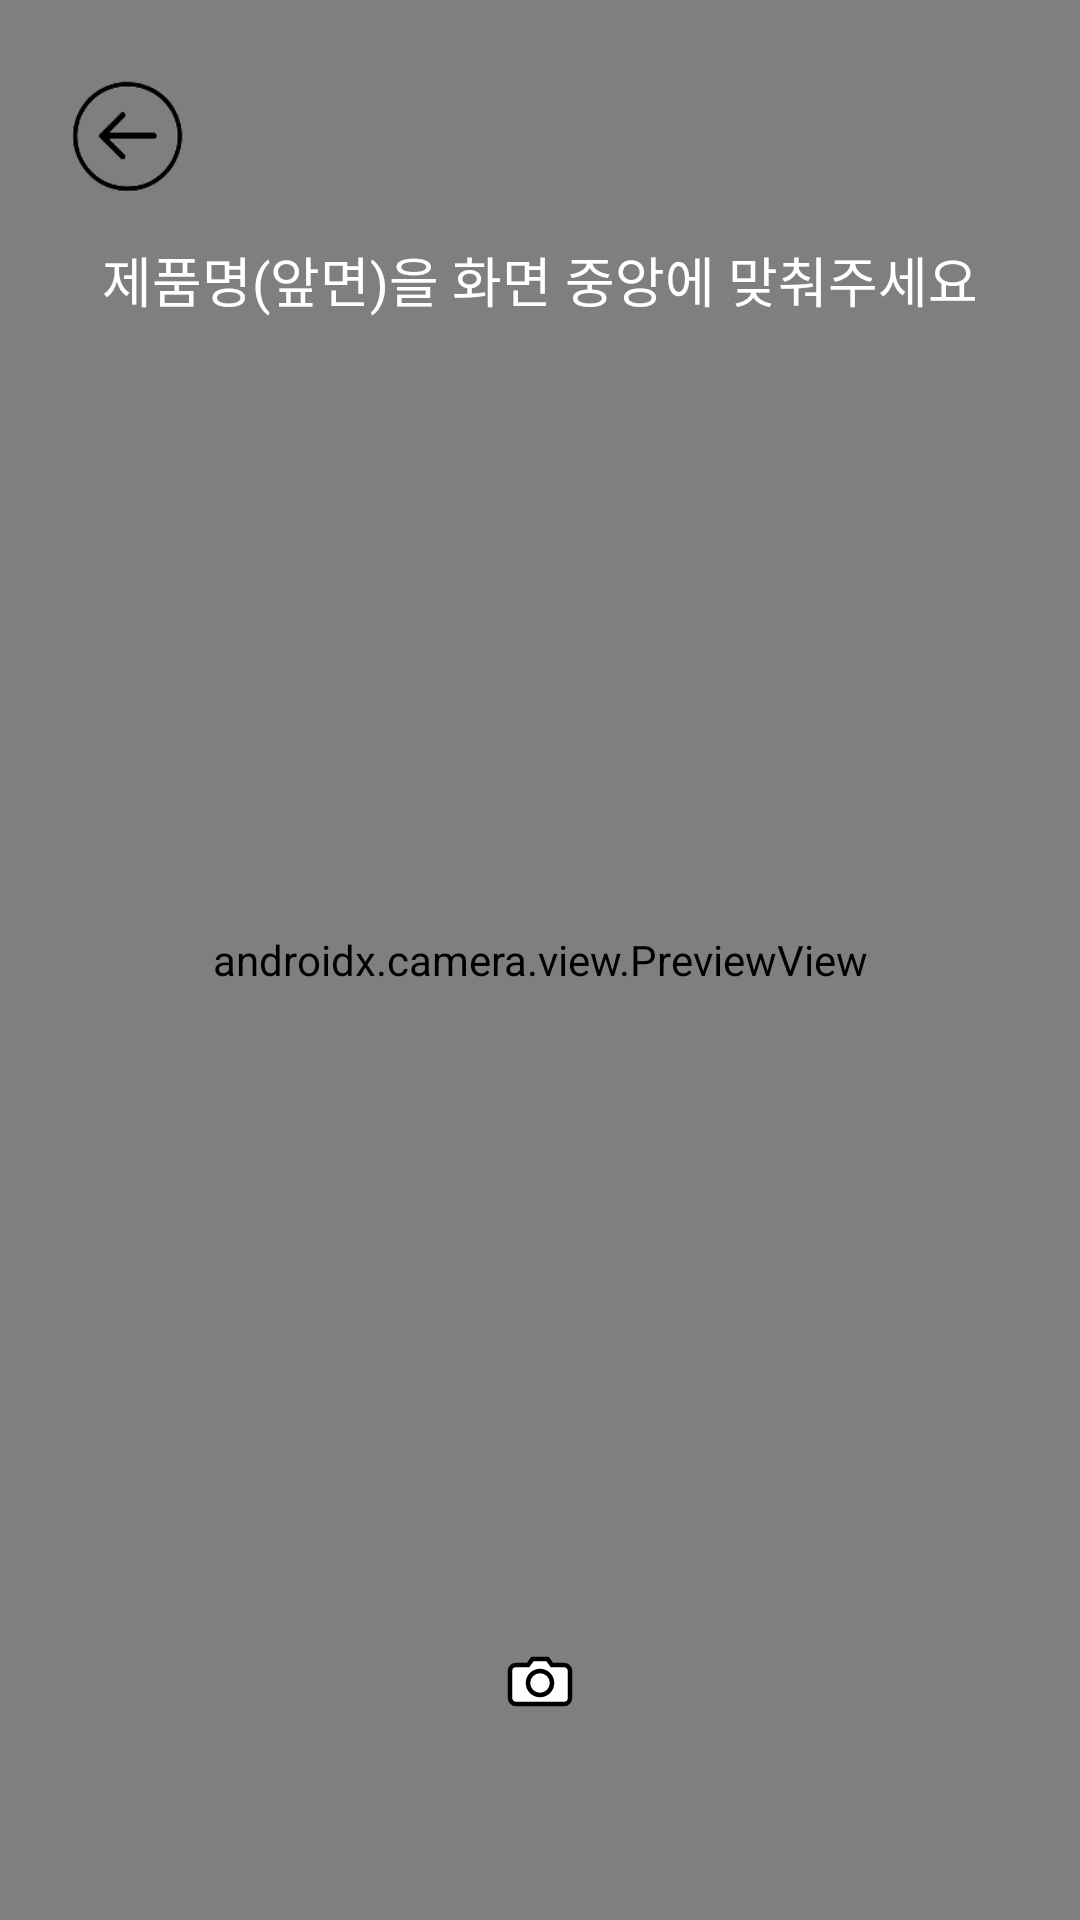

Where icons sit on this 1080w x 1920h app screen, as Rect(x1, y1, x2, y2):
Back: Rect(73, 81, 183, 191)
